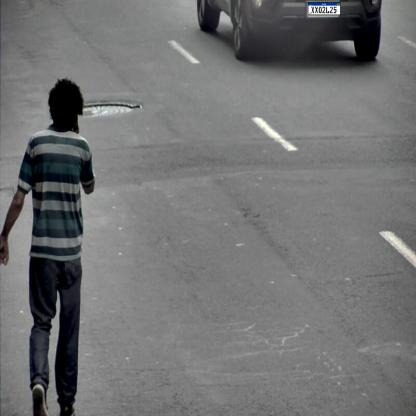PlacaM: (308, 2, 340, 15)
